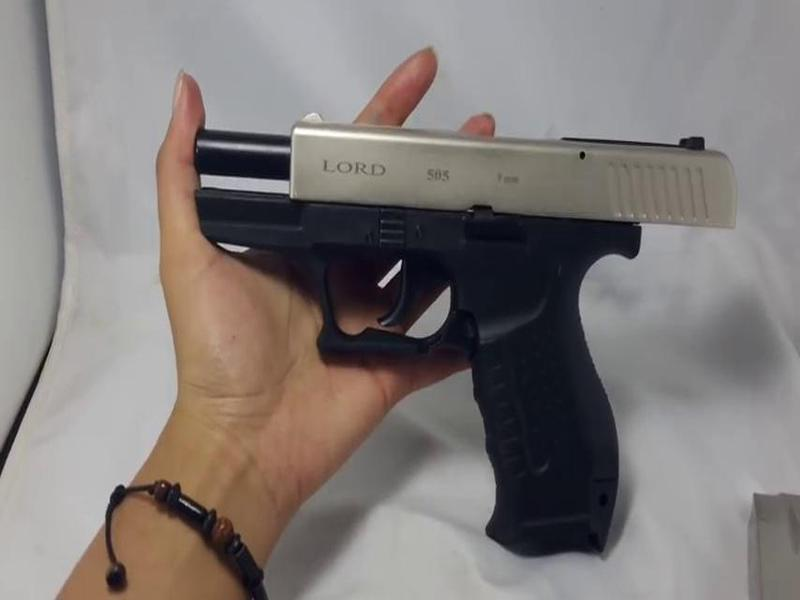Pistola: (158, 93, 742, 560)
